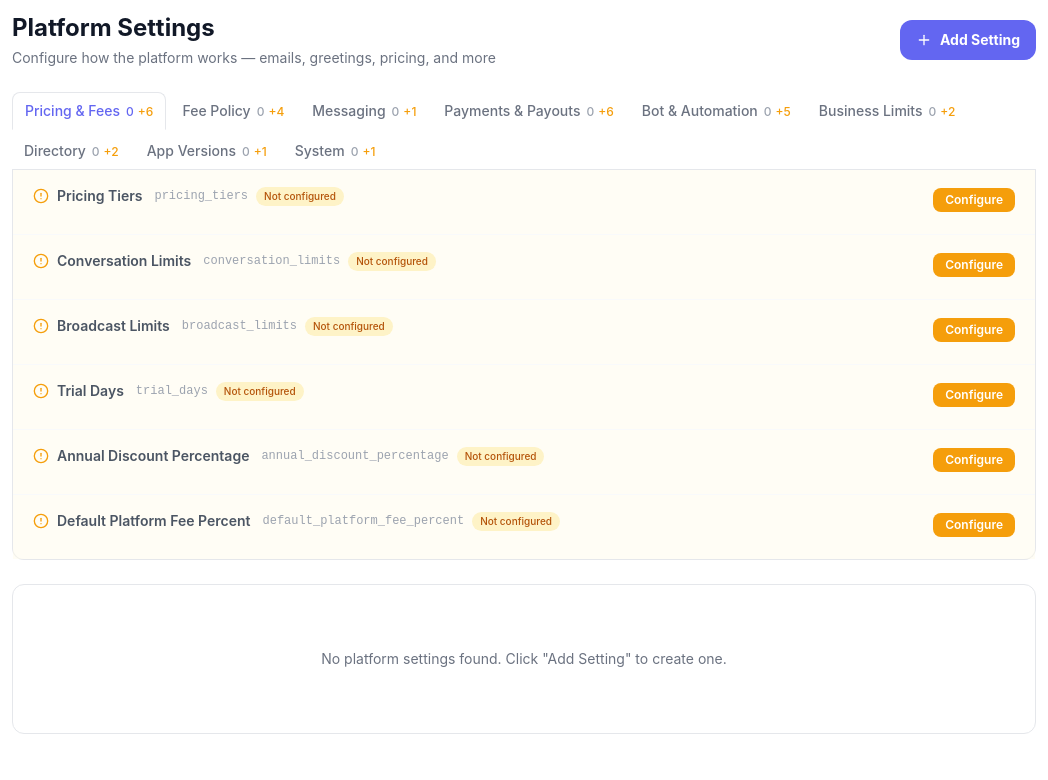
Test: PlatformSettings — Messaging tab / TopupPackagesEditor › 2. messaging_topup_packages renders as "Not configured" when absent
Click the button "Messaging0+1": (364, 110) 300,92 -> 428,129
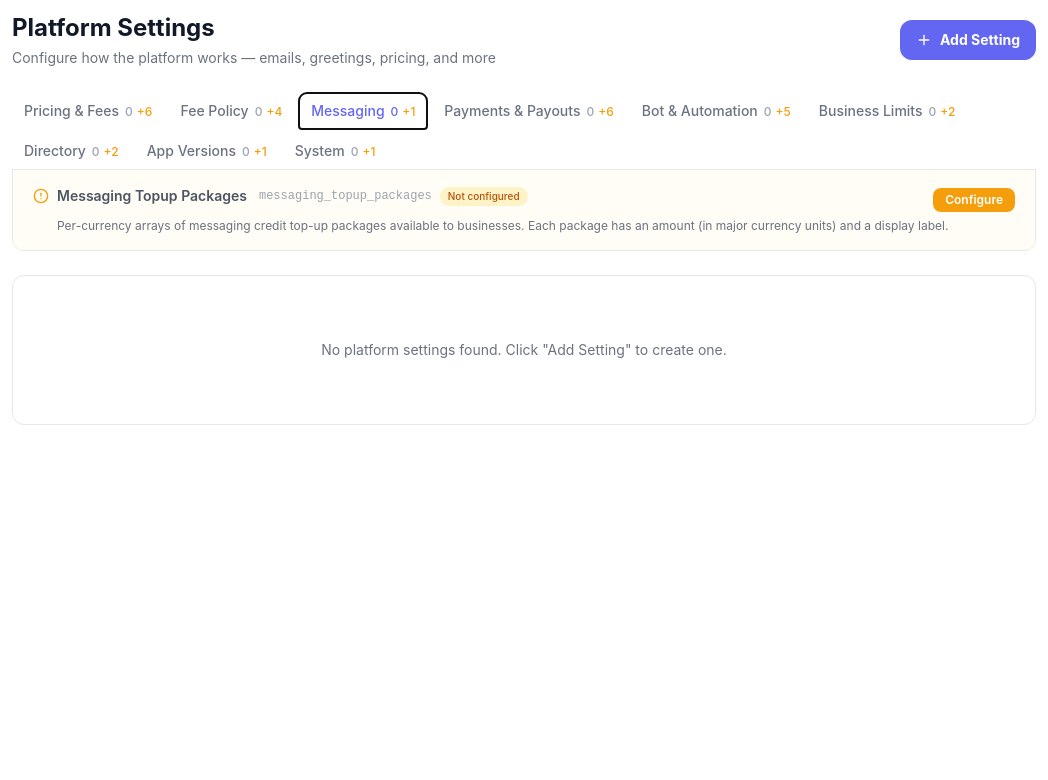
Expected: the text "Not configured" is shown, 440,186 -> 528,206
Now the element with test id "unconfigured-messaging_topup_packages" is shown, box 13,170 -> 1035,250
